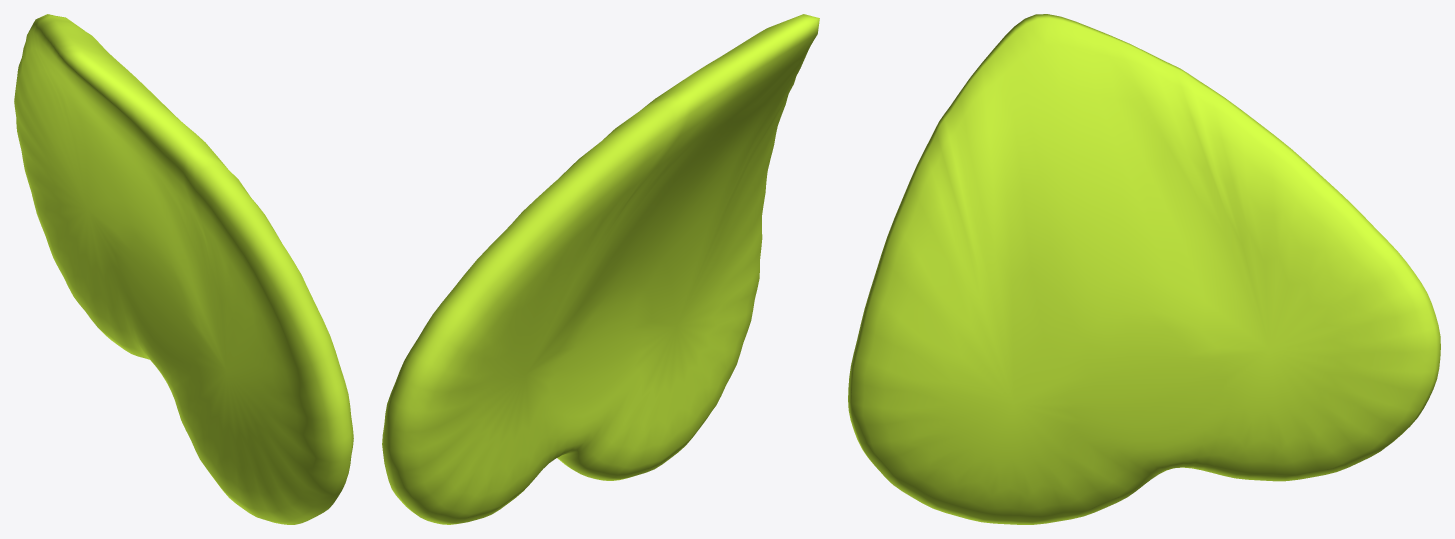
File: treetrunksorejader.obj
The picture shows the model from 3 angles, left to right: view 1: azimuth 30°, elevation 25°; view 2: azimuth 150°, elevation 25°; view 3: azimuth 270°, elevation 25°; orthographic projection. The views are drawn at different scales.
Parts seen in each view (by area): view 1: TtOrejaDer; view 2: TtOrejaDer; view 3: TtOrejaDer.
Part boxes in pixels (x1,y1,x2,y2): TtOrejaDer: (14,14,353,524); TtOrejaDer: (382,14,819,524); TtOrejaDer: (848,14,1440,524).
Size of the model in its own units: 0.6113 by 1.31 by 1.62.
